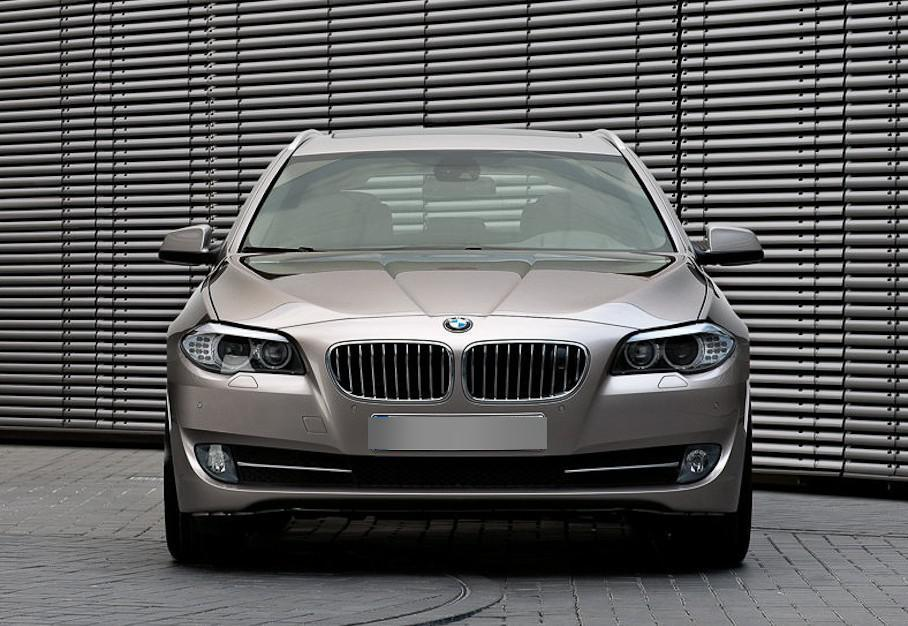Wagon: (154, 129, 766, 566)
